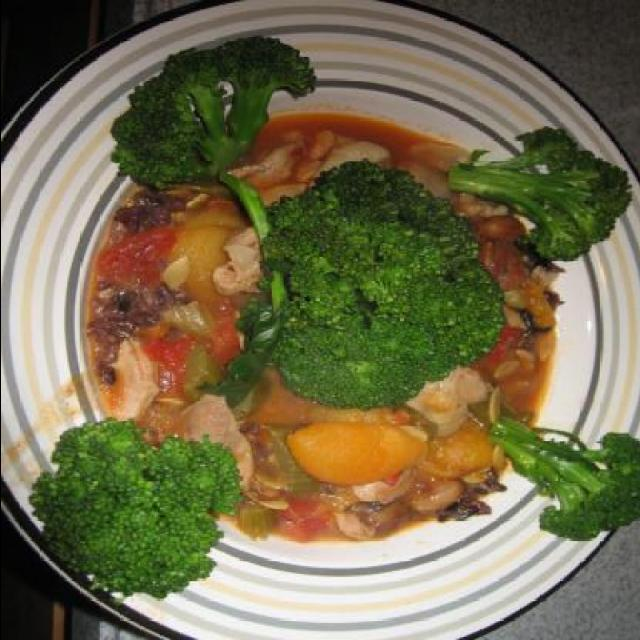Broccoli: (266, 156, 508, 412), (110, 33, 318, 319), (27, 418, 248, 608), (450, 124, 633, 261), (488, 416, 640, 541)
